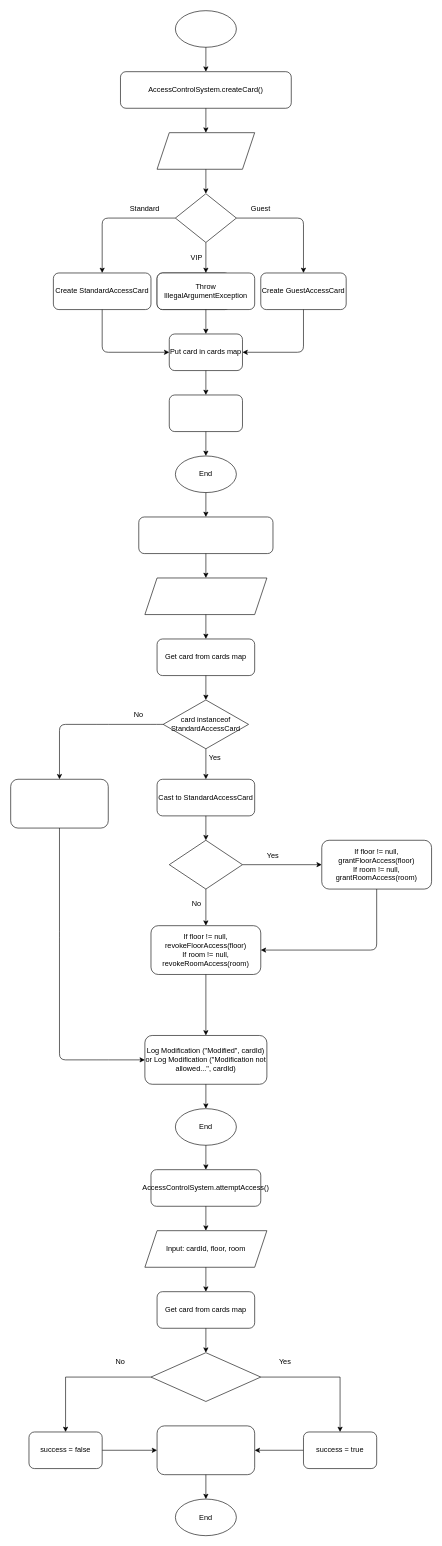
Image size: 442x1546. Some labels were removed from this diagram. The box of each missing label's shape, as (x1, y1, x2, y2) in pixels:
AccessControlSystem.modifyCard(): (138, 516, 273, 554)
card != null && card.hasAccess(floor, room): (150, 1352, 261, 1401)
cardType: (175, 193, 236, 242)
grant: (169, 840, 242, 889)
Input: cardId, expiration, cardType: (156, 132, 255, 169)
Input: cardId, grant, floor, room: (144, 577, 267, 615)
Log Attempt (cardId, floor, room, success): (156, 1425, 255, 1475)
Log Modification ("Created", cardId): (169, 394, 242, 432)
Log Modification ("Modification not allowed...", cardId): (10, 779, 108, 828)
Start: (175, 10, 236, 47)
